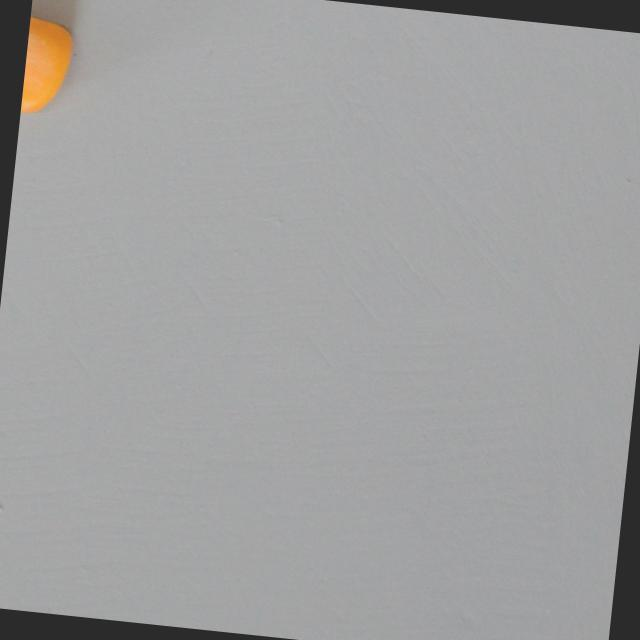entero: (20, 0, 82, 120)
